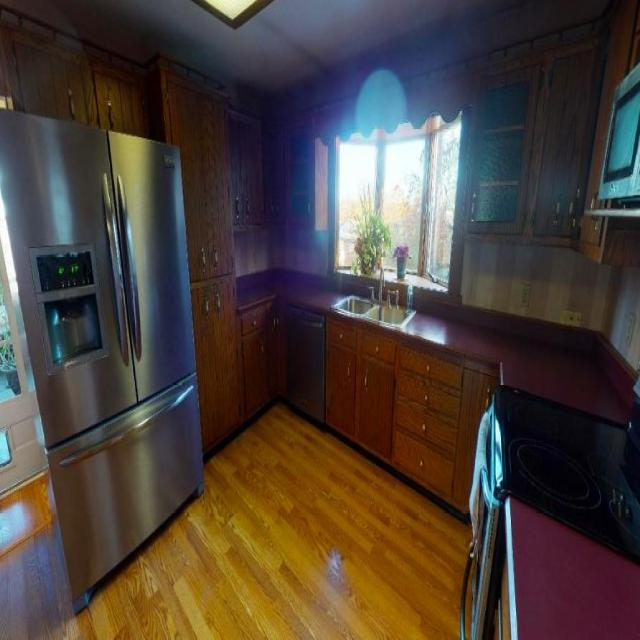dishwasher: (287, 303, 324, 424)
